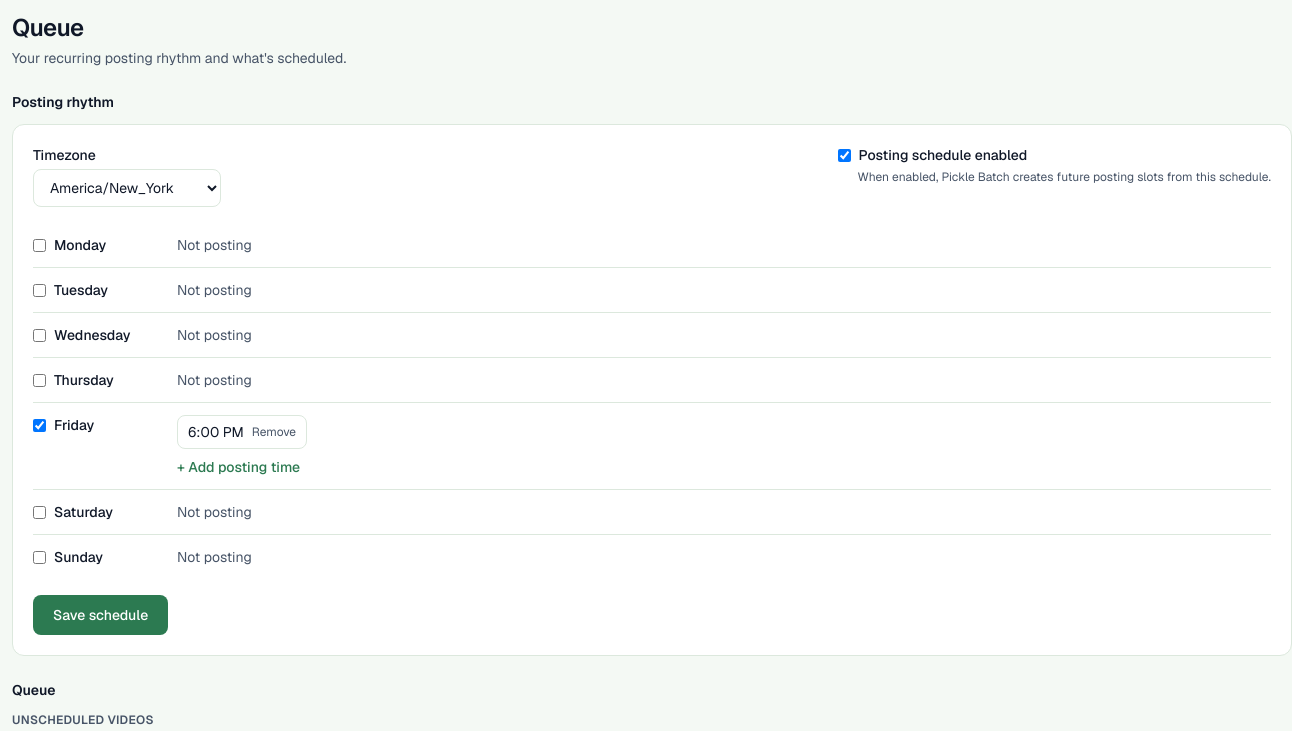
Test case: QueuePage — posting rhythm › disables a weekday and removes its times
The width and height of the screenshot is (1292, 731).
Check: the text "6:00 PM" is shown, box top-left (188, 422), bottom-right (244, 442)
Click the checkbox labelled "Friday" at (40, 425), box top-left (33, 418), bottom-right (46, 432)
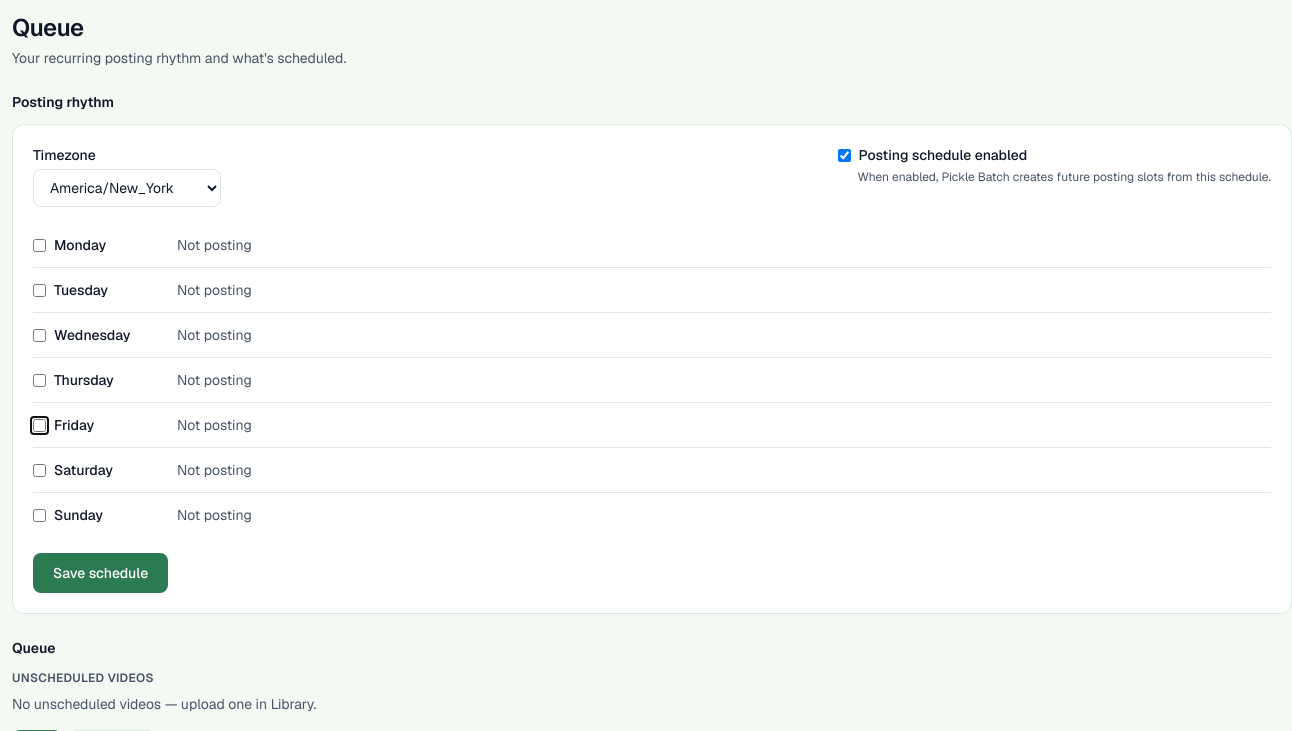
Check: the checkbox labelled "Friday" is not checked, box top-left (33, 418), bottom-right (46, 432)
Check: the text "6:00 PM" is gone
